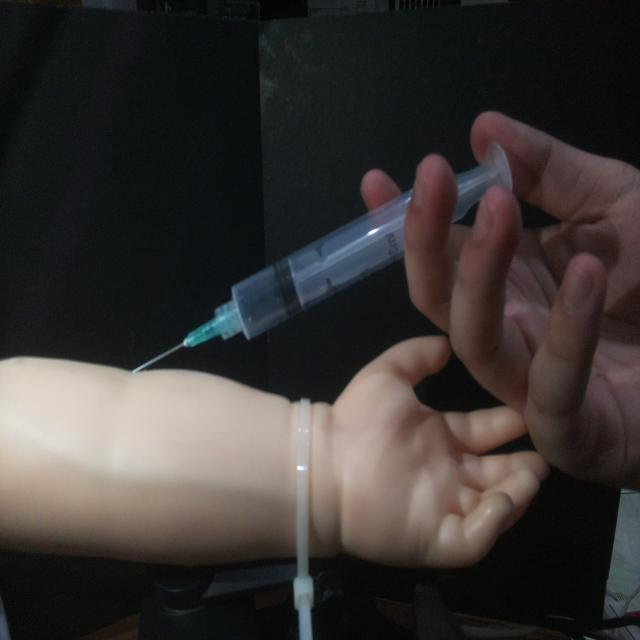22deg: (127, 138, 517, 376)
